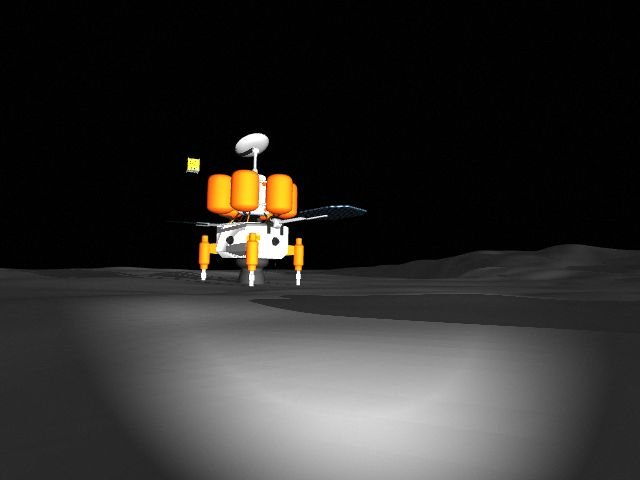cubesat: (184, 154, 203, 176)
